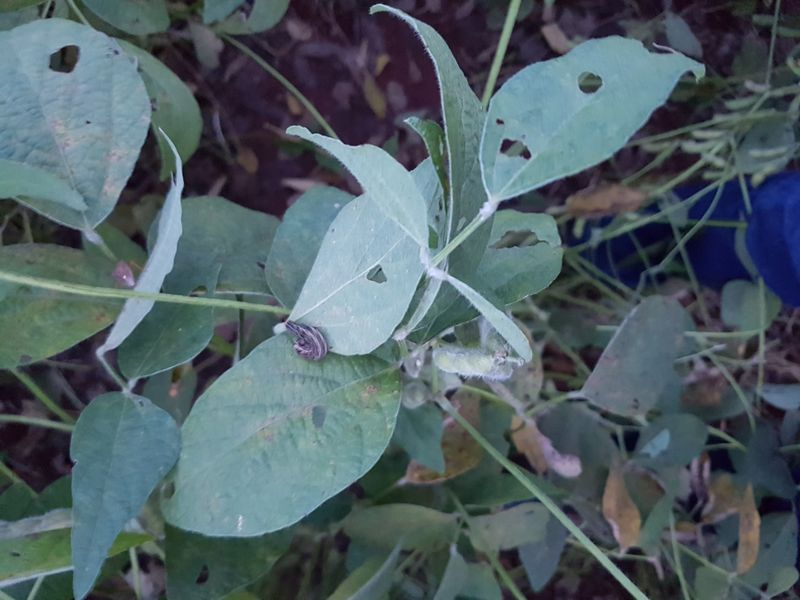Euschistus_heros_adulto: (100, 252, 154, 299)
Spodoptera_albula: (269, 310, 340, 371)
